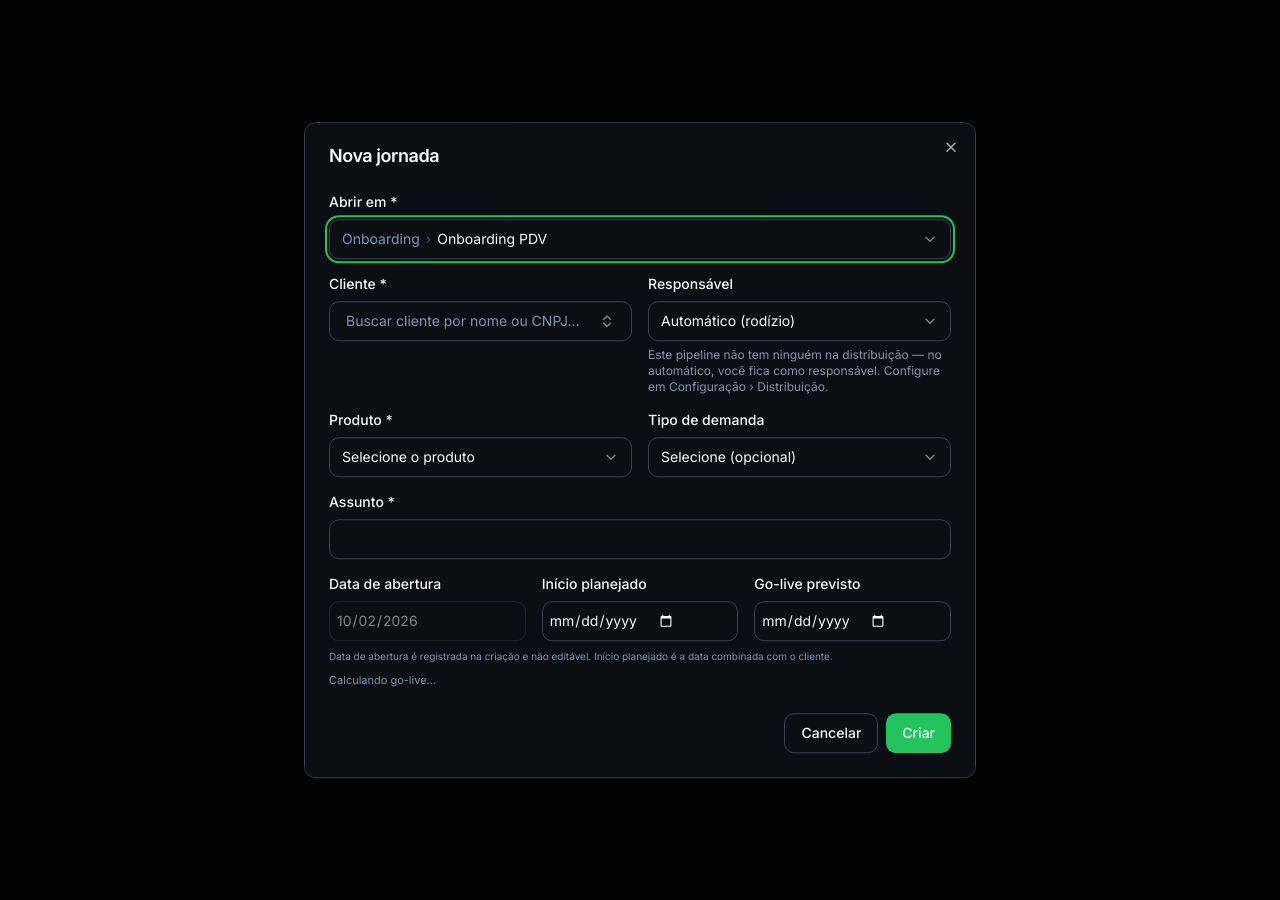
it: NewJourneyModal — produto preenchido pelo cliente (DEM-0324) › deixa o campo vazio e avisa quando o cliente não tem produto ativo
The width and height of the screenshot is (1280, 900).
Step 1. Click the dropdown labelled "Buscar cliente por nome ou CNPJ..." → [480, 321], box 329,301 -> 632,341
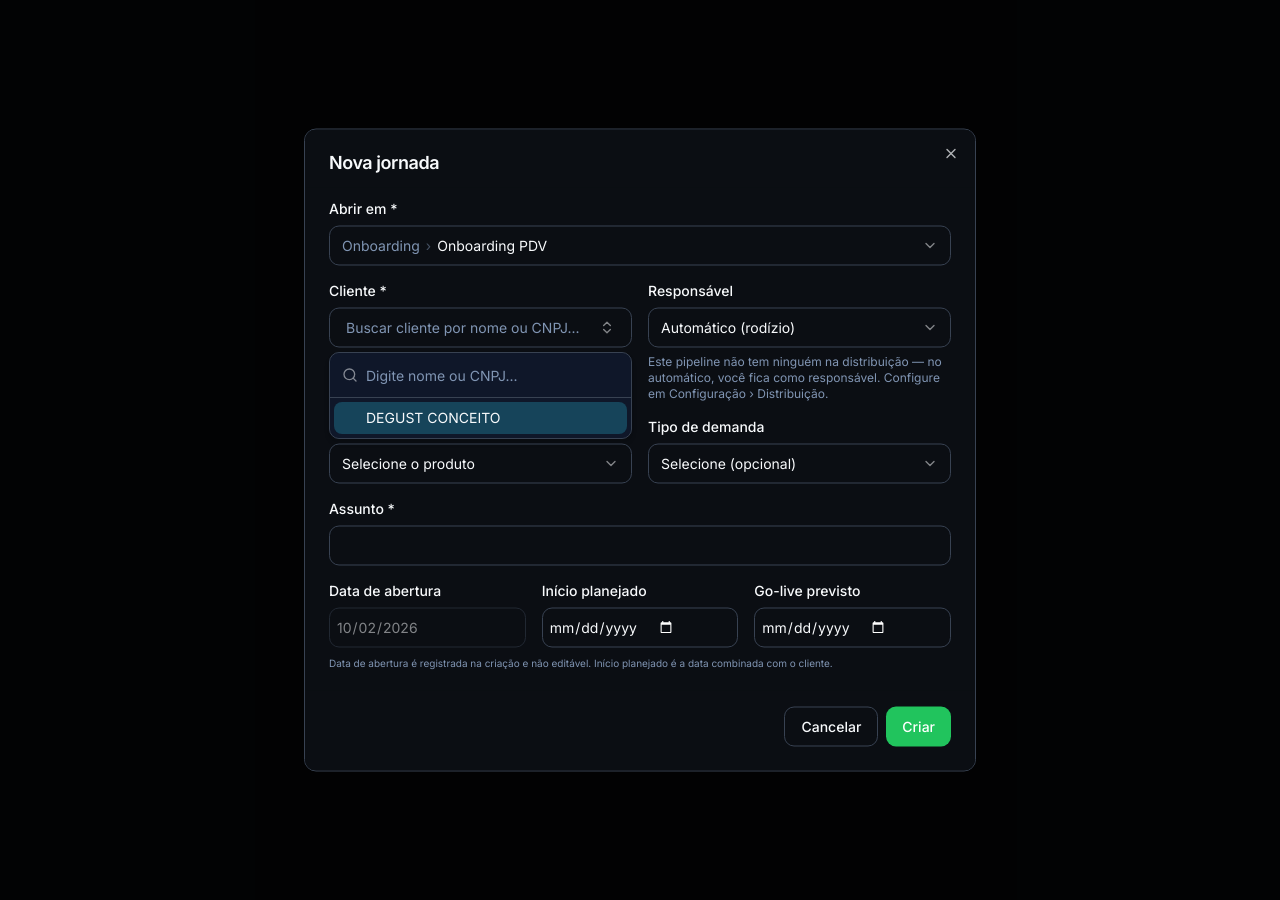
Step 2. Click the option "DEGUST CONCEITO" → [480, 418], box 334,402 -> 627,434
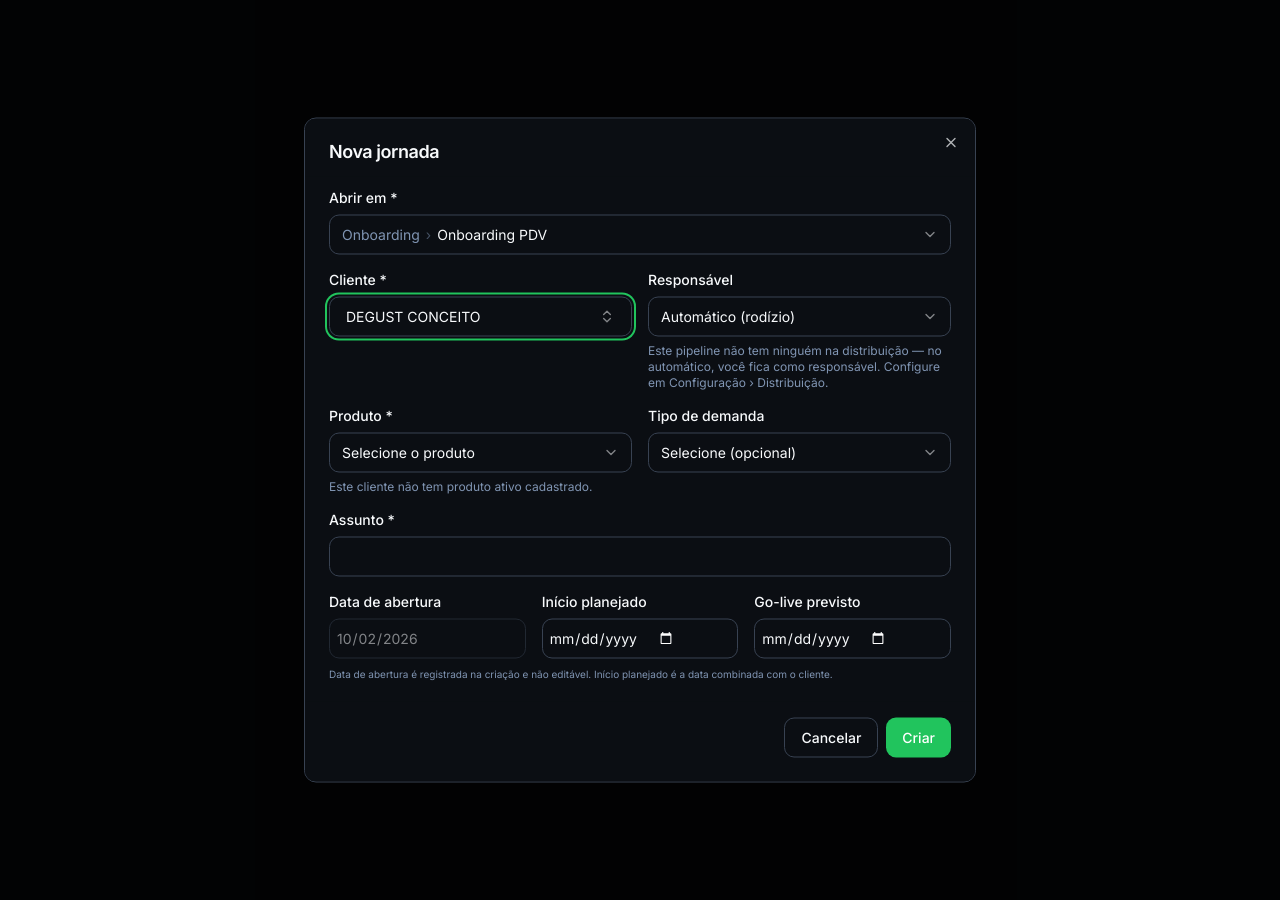
Expected: the dropdown labelled "Selecione o produto" is shown, 329,432 -> 632,472
Expected: the text "não tem produto ativo cadastrado" is shown, 329,478 -> 592,494
